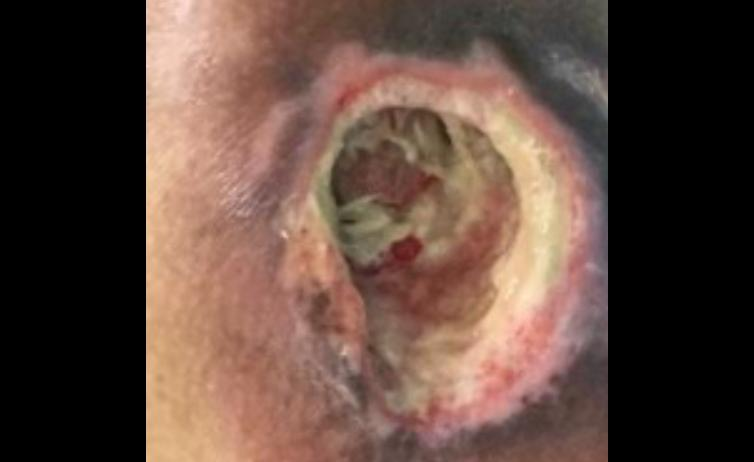Stage4: (224, 0, 608, 459)
